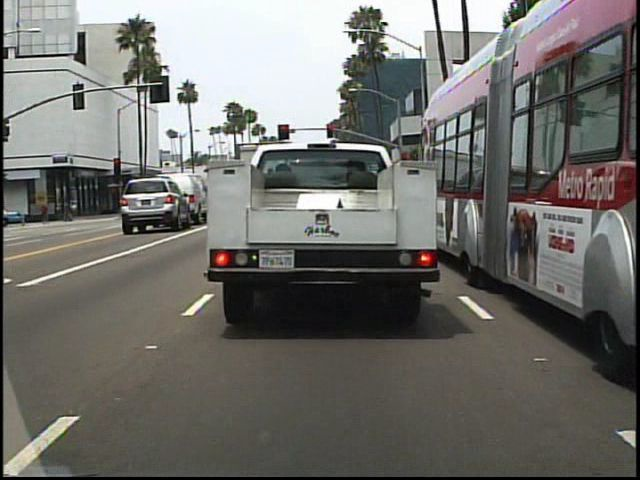person: (36, 194, 56, 226)
